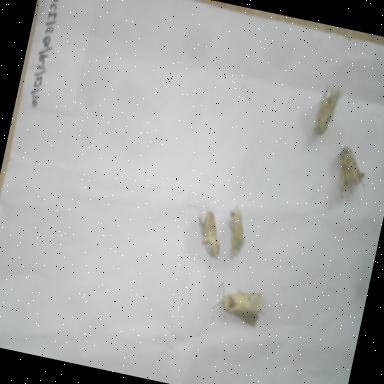abw: (204, 274, 272, 336), (324, 140, 378, 210), (302, 71, 352, 146), (212, 196, 256, 265), (186, 200, 231, 266)
